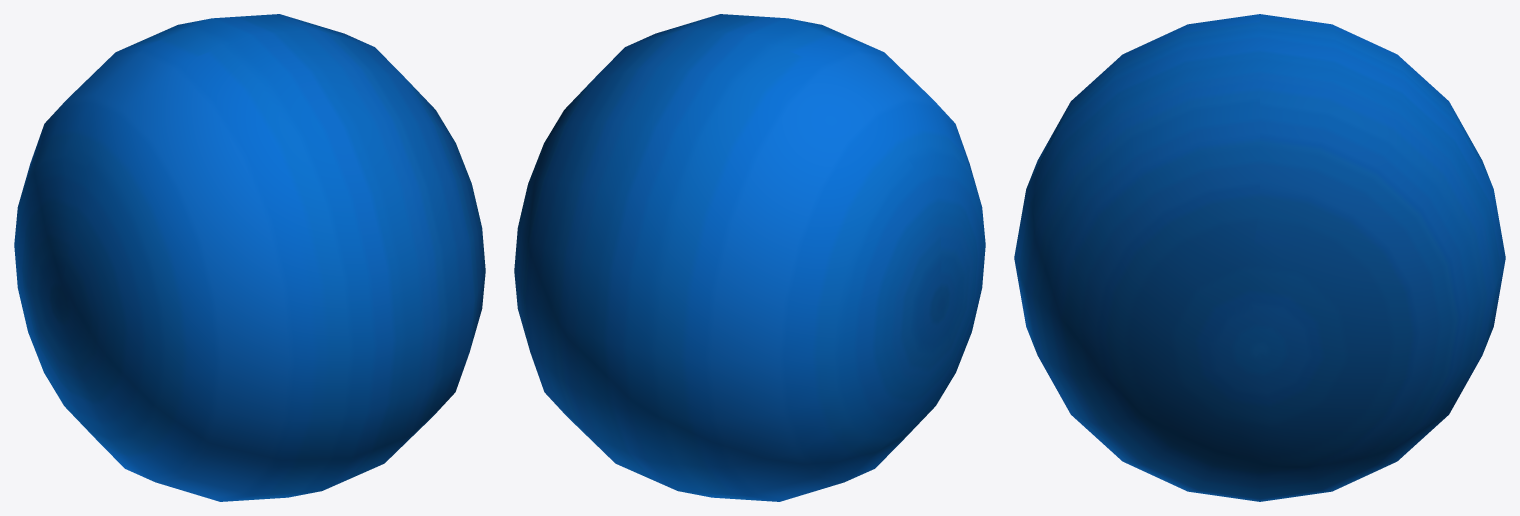
The model's file is ClassicSonicBall.obj.
The picture shows the model from 3 angles, left to right: view 1: azimuth 30°, elevation 25°; view 2: azimuth 150°, elevation 25°; view 3: azimuth 270°, elevation 25°; orthographic projection.
Parts seen in each view (by area): view 1: Sonic_Ball_0; view 2: Sonic_Ball_0; view 3: Sonic_Ball_0.
Boxes of the visible parts, box(x1,y1,x2,y2) form: Sonic_Ball_0: box(14, 14, 485, 501); Sonic_Ball_0: box(514, 14, 985, 501); Sonic_Ball_0: box(1014, 14, 1505, 501).
Size of the model in its own units: 0.7094 by 0.7867 by 0.7867.
1 material, 1 textured.
